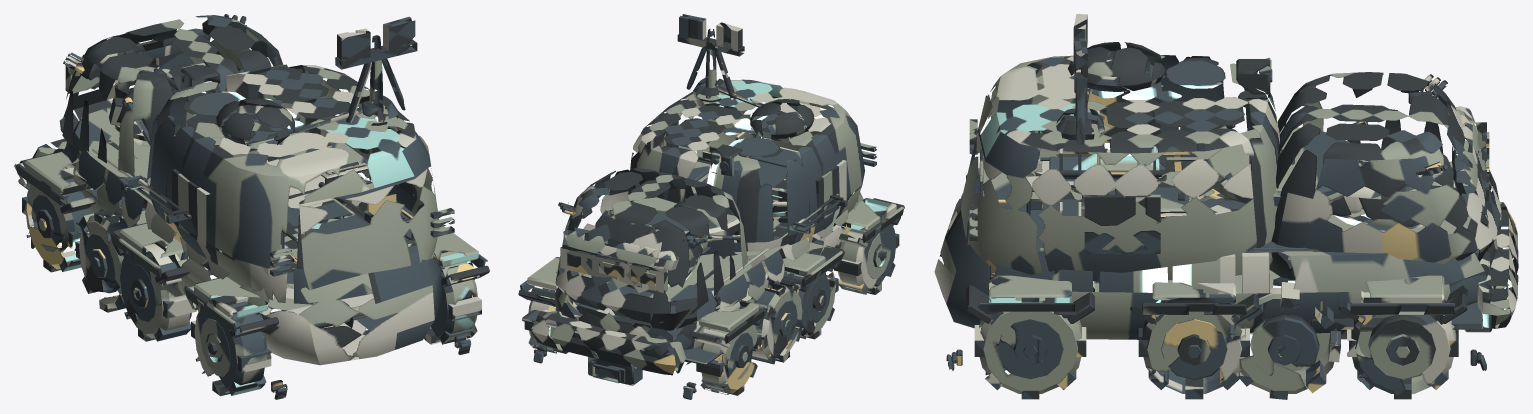
File: OverlordCommandHQ_Atlas.fbx
3 renders of one model, left to right at view 1: azimuth 30°, elevation 25°; view 2: azimuth 150°, elevation 25°; view 3: azimuth 270°, elevation 25°, orthographic. The views are drawn at different scales.
Visible parts, largest first — view 1: OverlordCommandHQ_UnifiedMesh; view 2: OverlordCommandHQ_UnifiedMesh; view 3: OverlordCommandHQ_UnifiedMesh.
Boxes of the visible parts, bbox=[...] form: OverlordCommandHQ_UnifiedMesh: bbox=[14, 14, 489, 399]; OverlordCommandHQ_UnifiedMesh: bbox=[518, 14, 904, 399]; OverlordCommandHQ_UnifiedMesh: bbox=[934, 14, 1518, 399].
Bounding box in the file's own units: 250 × 283 × 447.
Materials: 1 (1 with a texture image).
